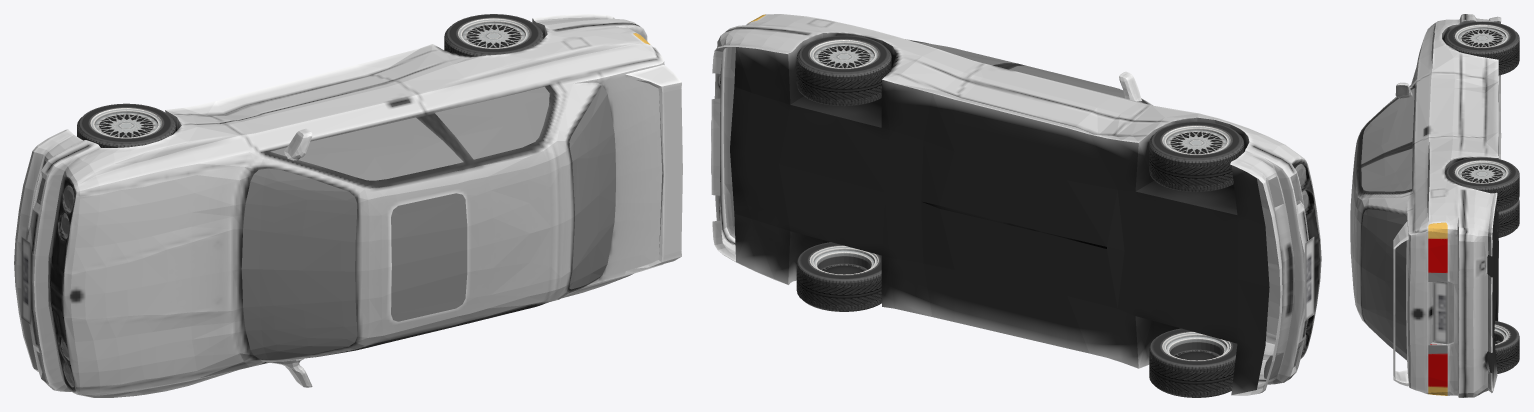
The model's file is car.obj.
3 renders of one model, left to right at view 1: azimuth 30°, elevation 25°; view 2: azimuth 150°, elevation 25°; view 3: azimuth 270°, elevation 25°, orthographic. The views are drawn at different scales.
Visible parts, largest first — view 1: Object_0; view 2: Object_0; view 3: Object_0.
Boxes of the visible parts, left/top/right/bottom form: Object_0: left=14, top=14, right=682, bottom=397; Object_0: left=711, top=14, right=1321, bottom=397; Object_0: left=1350, top=14, right=1519, bottom=397.
Bounding box in the file's own units: 0.55 × 0.2182 × 0.1726.
Materials: 1 (1 with a texture image).
